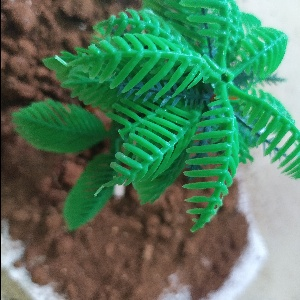plant: (11, 1, 299, 232)
